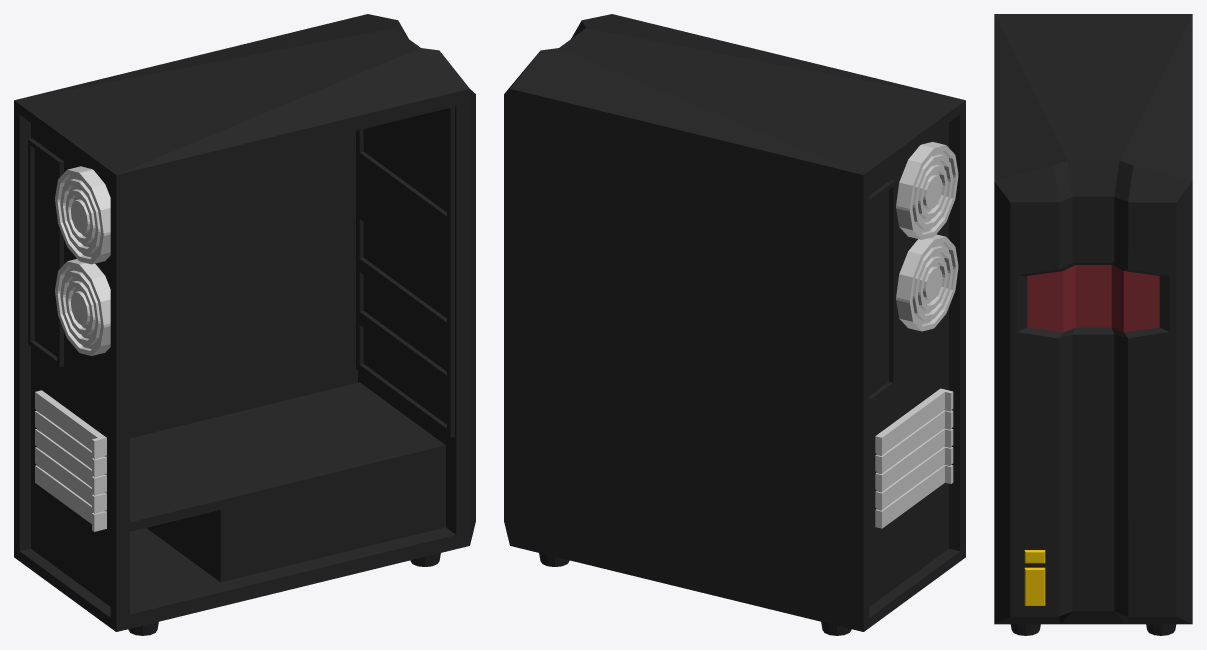
Rendered from Gabinete.fbx.
3 views of the same model, side by side, from view 1: azimuth 30°, elevation 25°; view 2: azimuth 150°, elevation 25°; view 3: azimuth 270°, elevation 25° (orthographic). The views are drawn at different scales.
Visible parts, largest first — view 1: Gabinete; view 2: Gabinete; view 3: Gabinete.
Part boxes in pixels (x1,y1,x2,y2): Gabinete: [14, 14, 475, 635]; Gabinete: [504, 14, 965, 635]; Gabinete: [994, 14, 1192, 635].
Size of the model in its own units: 461 by 579 by 218.
